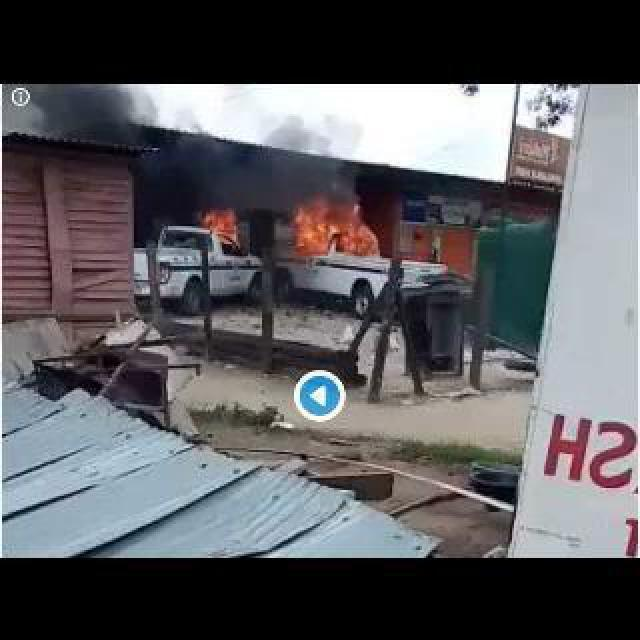Fire: (284, 182, 382, 260), (196, 198, 246, 250)
Smoke: (152, 108, 360, 208), (28, 84, 150, 158)
